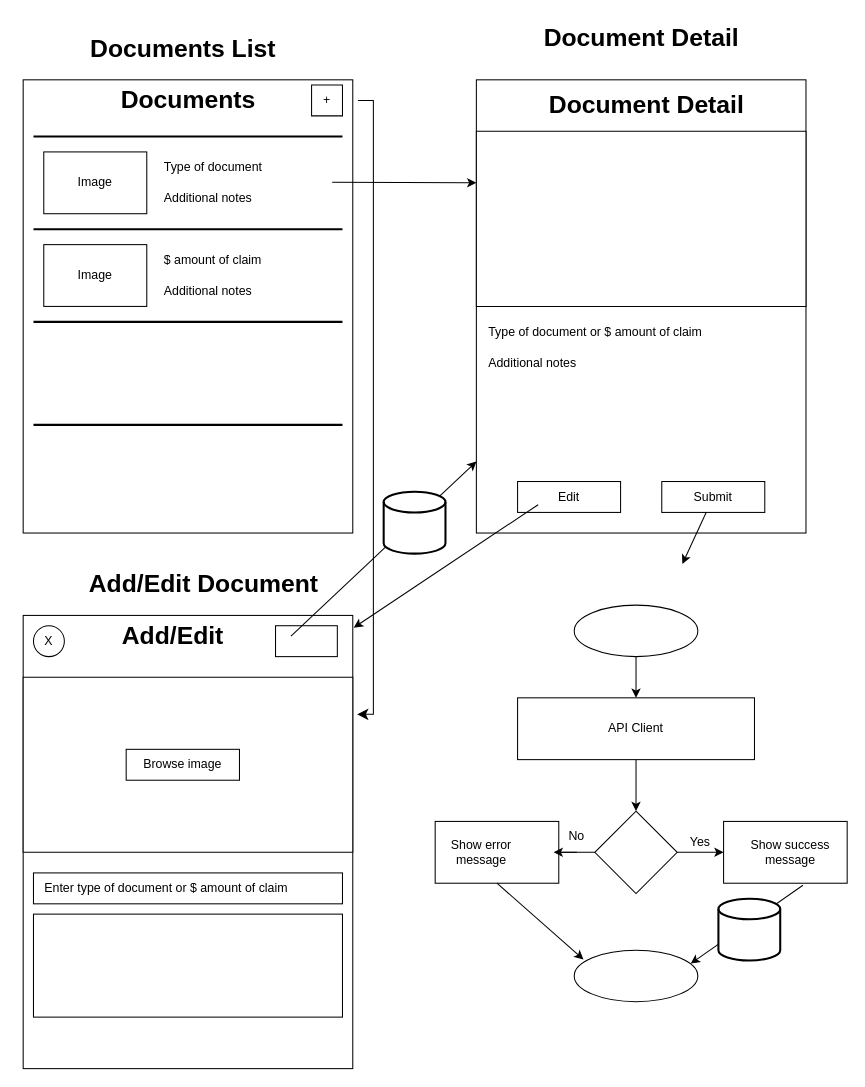
The diagram is 865 pixels wide and 1087 high, and some of its shapes have lost their labels. The shapes that lost their labels are listed below. From the top down, each one's box as (x1, y1, x2, y2) in pixels, then its label:
(475, 130, 806, 306): Large Image
(274, 625, 337, 657): Save
(573, 604, 698, 657): Start upload
(594, 810, 677, 894): Succeeded?
(32, 913, 342, 1017): Enter additional notes
(573, 949, 698, 1002): End
